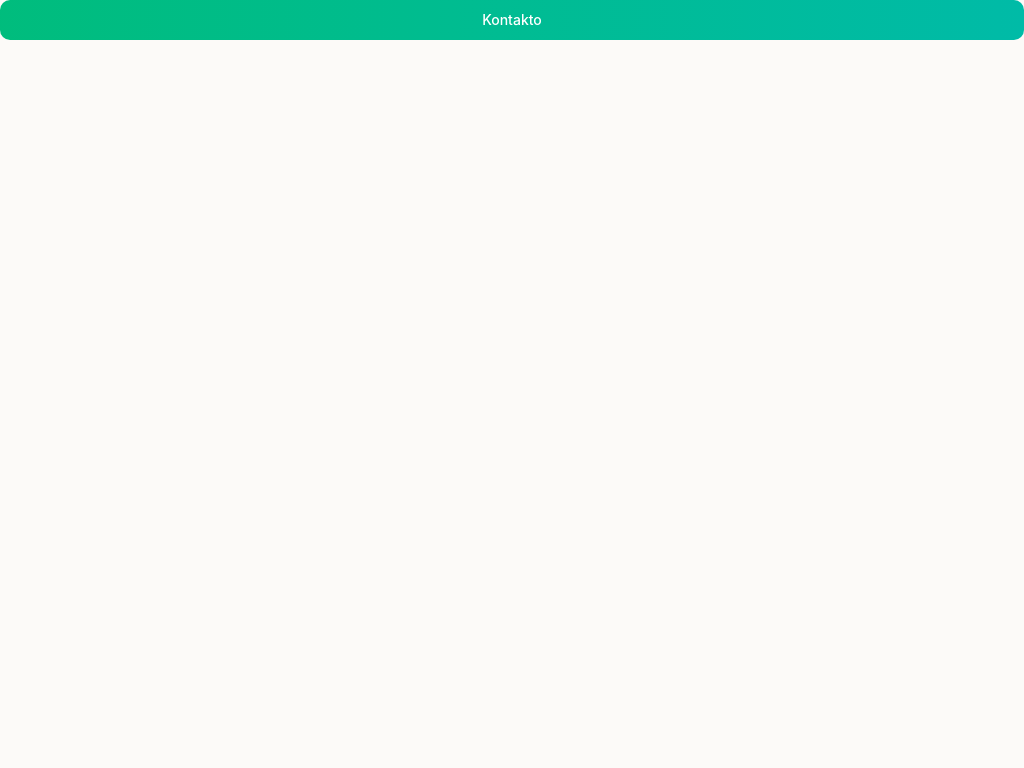
Test: ContactListingButton › shows contact modal for authenticated users
Click the button "Kontakto". click: click(512, 20)
box: [0,0,1023,40]
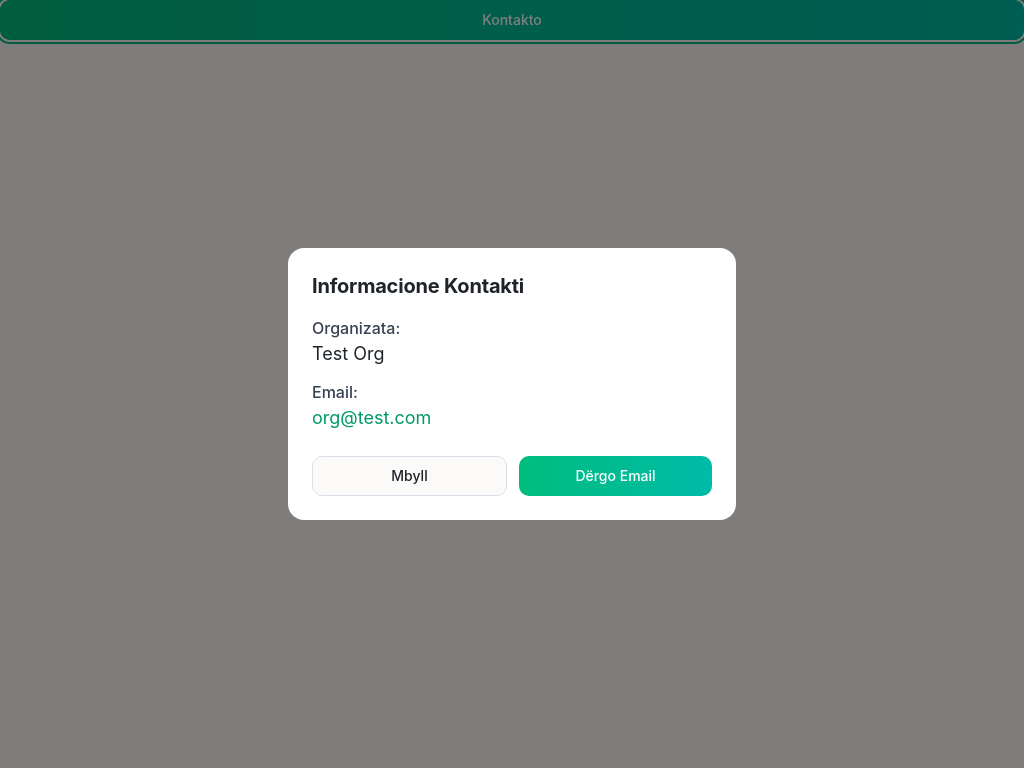
Result: the heading "Informacione Kontakti" is shown at [312,274,524,298]
Result: the text "Test Org" is shown at [312,343,384,364]
Result: the text "org@test.com" is shown at [312,407,431,428]
